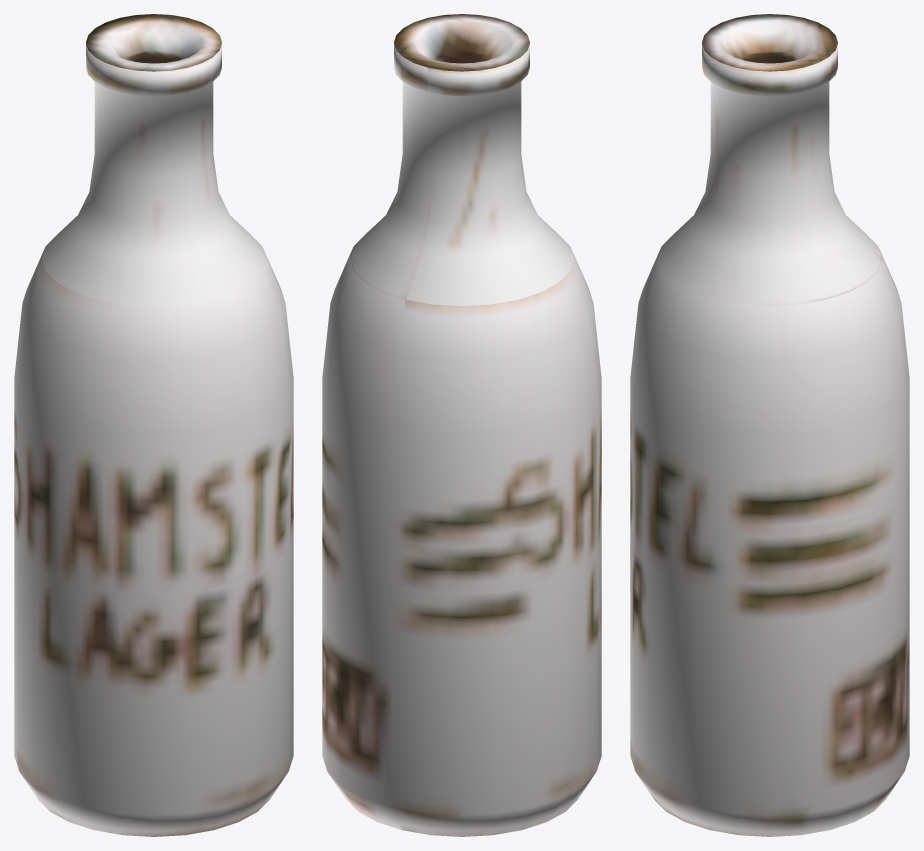
3 views of the same model, side by side, from view 1: azimuth 30°, elevation 25°; view 2: azimuth 150°, elevation 25°; view 3: azimuth 270°, elevation 25° (orthographic).
Parts seen in each view (by area): view 1: Beer_Amstel; view 2: Beer_Amstel; view 3: Beer_Amstel.
Part boxes in pixels (left/top/right/bottom): Beer_Amstel: left=14, top=14, right=293, bottom=836; Beer_Amstel: left=322, top=14, right=601, bottom=836; Beer_Amstel: left=630, top=14, right=909, bottom=836.
Bounding box in the file's own units: 11.19 × 32.86 × 11.19.
1 material, 1 textured.
